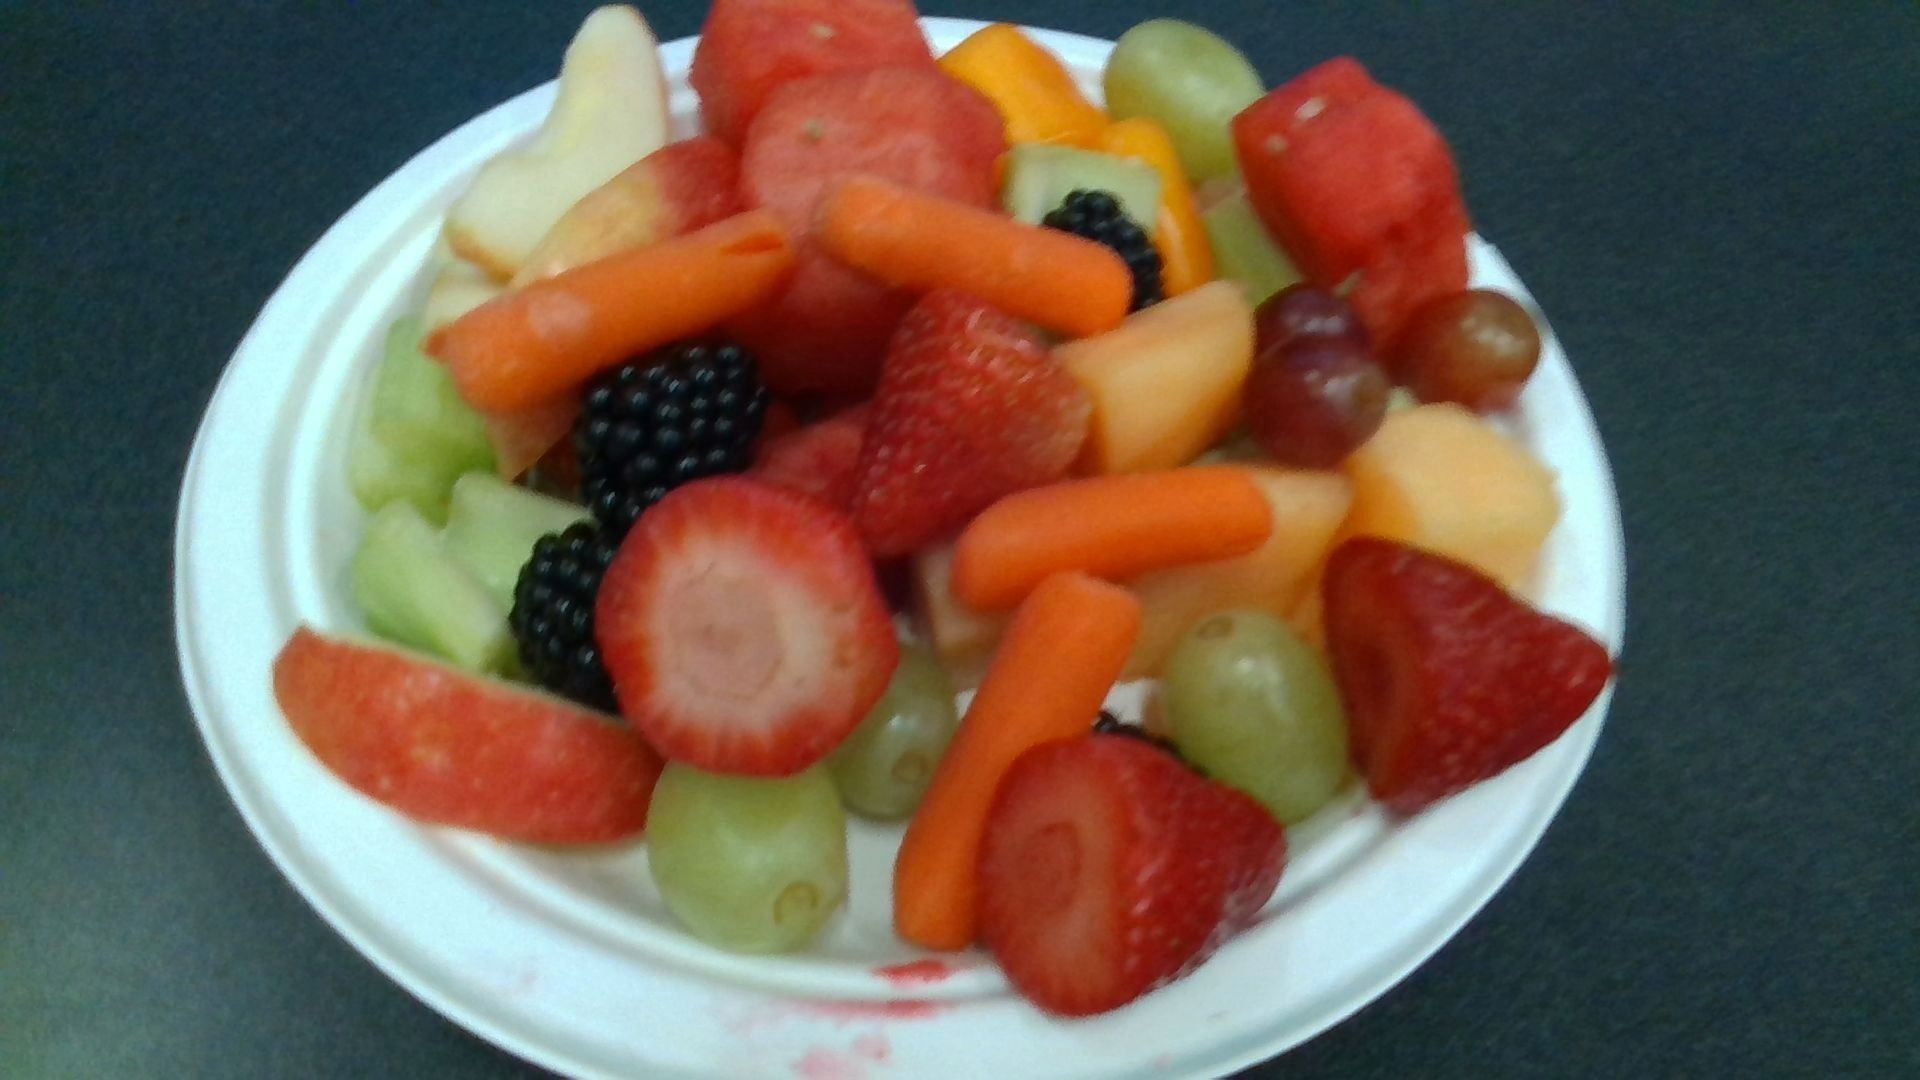apple: (274, 621, 665, 843), (444, 8, 669, 278), (506, 138, 742, 291)
blackberry: (580, 345, 760, 516)
cantalope: (1127, 473, 1360, 675), (1052, 280, 1254, 476), (1342, 405, 1553, 583)
carrot: (894, 574, 1142, 949), (447, 210, 796, 407), (820, 171, 1130, 330), (952, 469, 1274, 608)
celery: (353, 476, 589, 665)
grape_green: (645, 761, 847, 951), (1164, 611, 1345, 822), (1104, 18, 1267, 179)
grape_purple: (1242, 335, 1389, 462), (1407, 291, 1539, 413)
melon: (1232, 55, 1466, 355), (738, 70, 1004, 247)
strawberry: (593, 475, 887, 775), (982, 738, 1287, 1018), (1324, 541, 1607, 811), (852, 291, 1092, 558)
